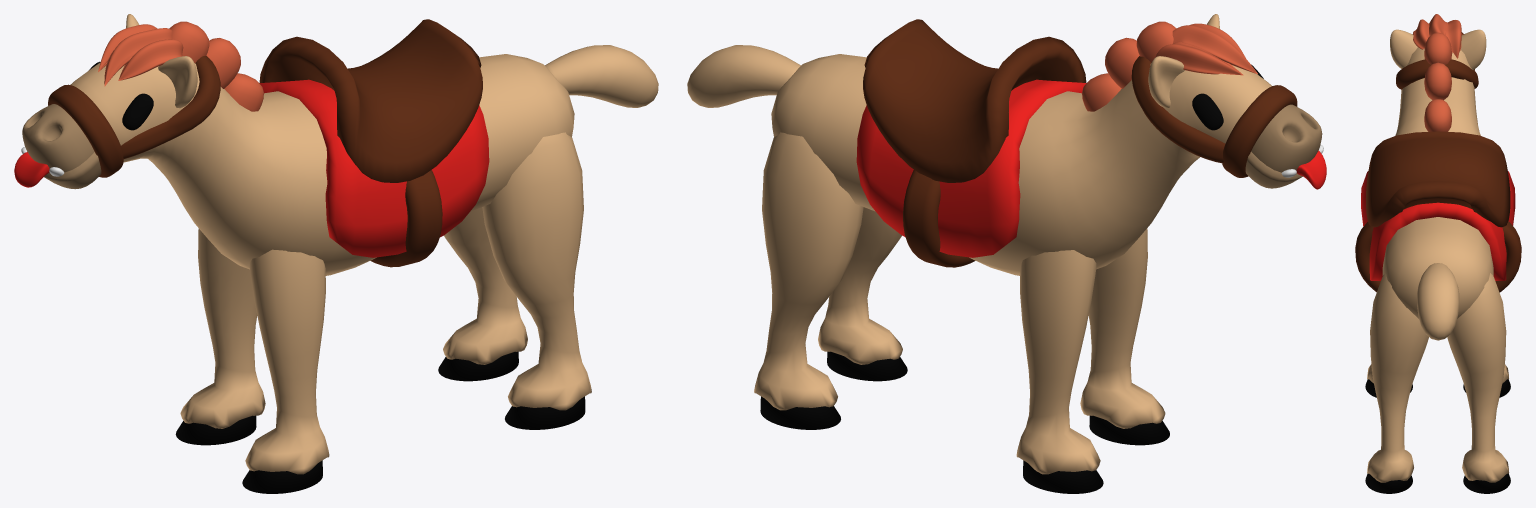
Rendered from horsefinal.glb.
3 renders of one model, left to right at view 1: azimuth 30°, elevation 25°; view 2: azimuth 150°, elevation 25°; view 3: azimuth 270°, elevation 25°, orthographic. The views are drawn at different scales.
Parts seen in each view (by area): view 1: horse_body, horse_back_left_foot, horse_front_left_foot, horse_front_right_foot, horse_back_right_foot; view 2: horse_body, horse_back_right_foot, horse_front_right_foot, horse_front_left_foot, horse_back_left_foot; view 3: horse_body, horse_back_left_foot, horse_back_right_foot, horse_front_right_foot, horse_front_left_foot.
Boxes of the visible parts, bbox=[...] form: horse_body: bbox=[14, 14, 658, 275]; horse_back_left_foot: bbox=[482, 132, 591, 429]; horse_front_left_foot: bbox=[242, 249, 329, 493]; horse_front_right_foot: bbox=[175, 228, 265, 445]; horse_back_right_foot: bbox=[438, 207, 527, 381]; horse_body: bbox=[687, 14, 1326, 275]; horse_back_right_foot: bbox=[754, 132, 863, 429]; horse_front_right_foot: bbox=[1016, 250, 1103, 493]; horse_front_left_foot: bbox=[1080, 228, 1169, 445]; horse_back_left_foot: bbox=[818, 207, 907, 381]; horse_body: bbox=[1355, 14, 1521, 340]; horse_back_left_foot: bbox=[1365, 273, 1428, 493]; horse_back_right_foot: bbox=[1447, 273, 1510, 493]; horse_front_right_foot: bbox=[1463, 364, 1510, 397]; horse_front_left_foot: bbox=[1365, 364, 1412, 397].
Bounding box in the file's own units: 7.46 × 5.07 × 2.31.
